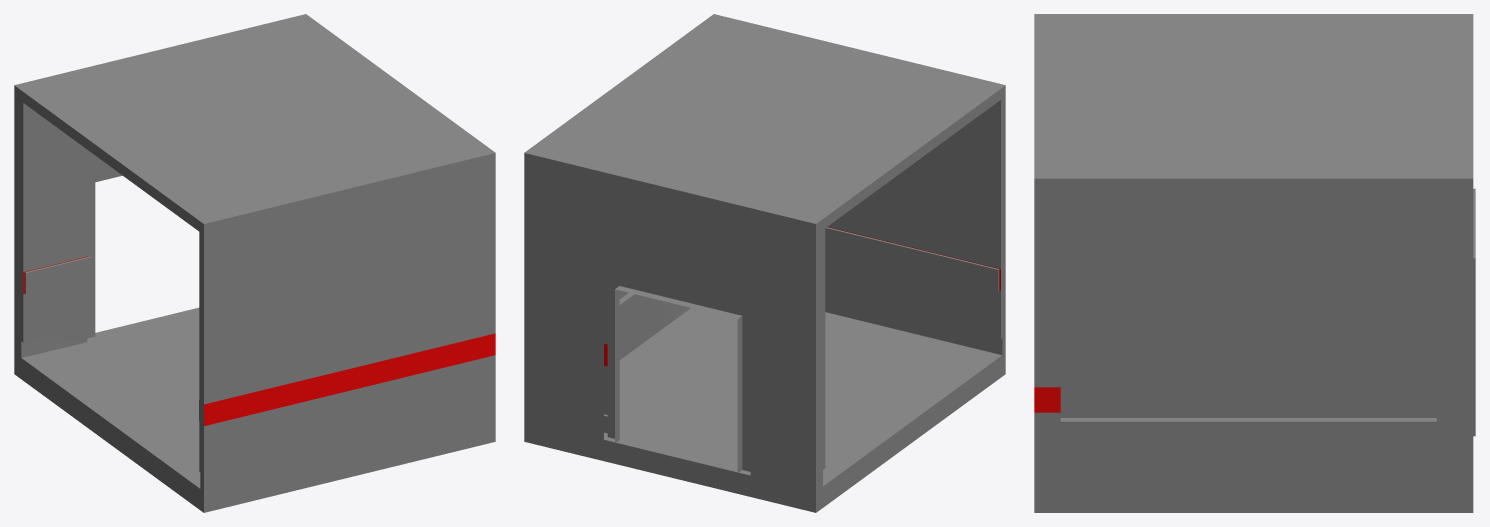
The model's file is ElevatorRoom_3ds.fbx.
3 views of the same model, side by side, from view 1: azimuth 30°, elevation 25°; view 2: azimuth 150°, elevation 25°; view 3: azimuth 270°, elevation 25° (orthographic). The views are drawn at different scales.
Parts seen in each view (by area): view 1: ElevatorRoom2; view 2: ElevatorRoom2; view 3: ElevatorRoom2.
Part boxes in pixels (<box>): ElevatorRoom2: <box>14,14,495,512</box>; ElevatorRoom2: <box>524,14,1005,512</box>; ElevatorRoom2: <box>1034,14,1475,512</box>.
Bounding box in the file's own units: 7.13 × 6.74 × 8.07.
